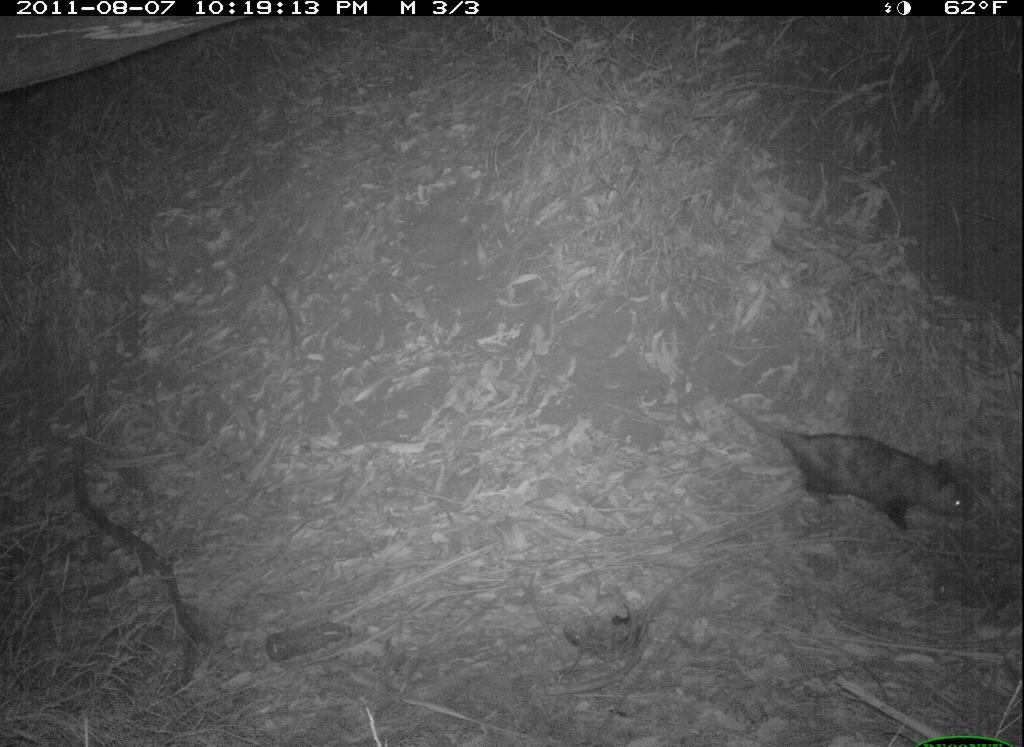opossum: (715, 386, 989, 537)
